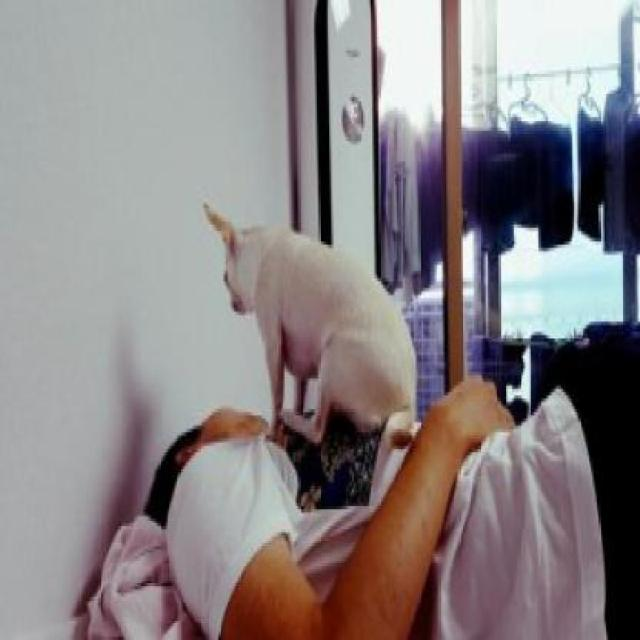Dog: (203, 188, 423, 455)
